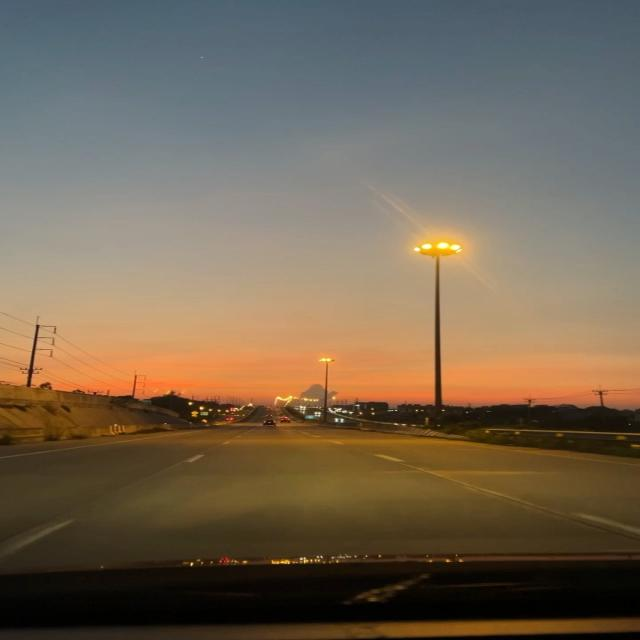Poth-hole: (87, 440, 544, 508)
